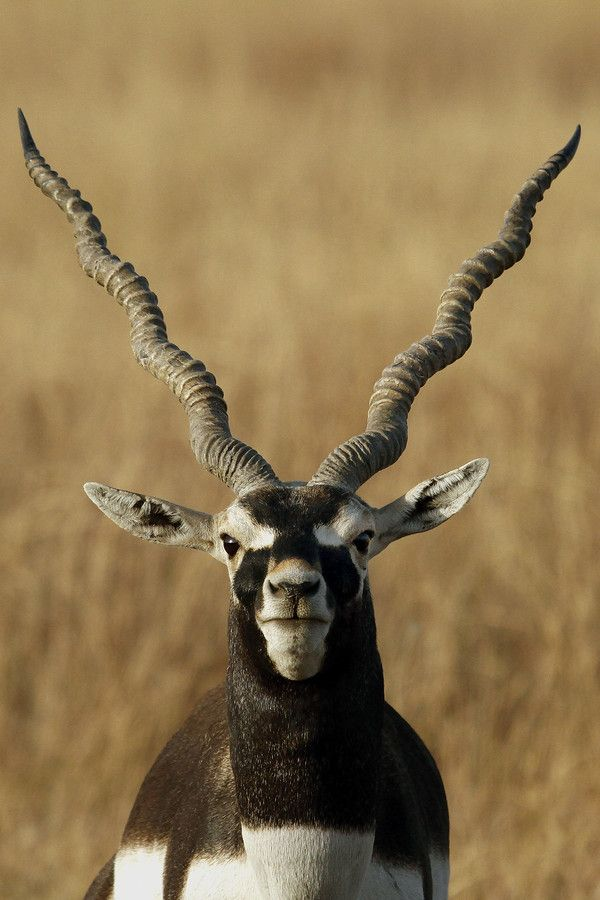Blackbuck: (17, 118, 586, 900)
